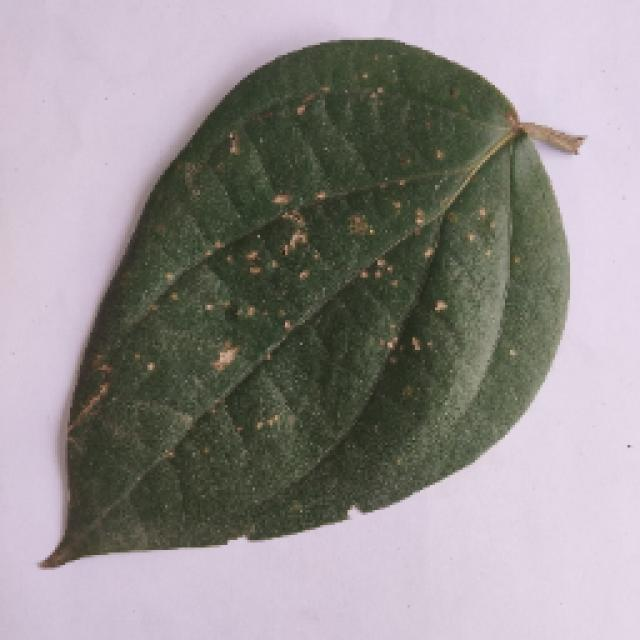pollu-disease: (28, 48, 600, 568)
